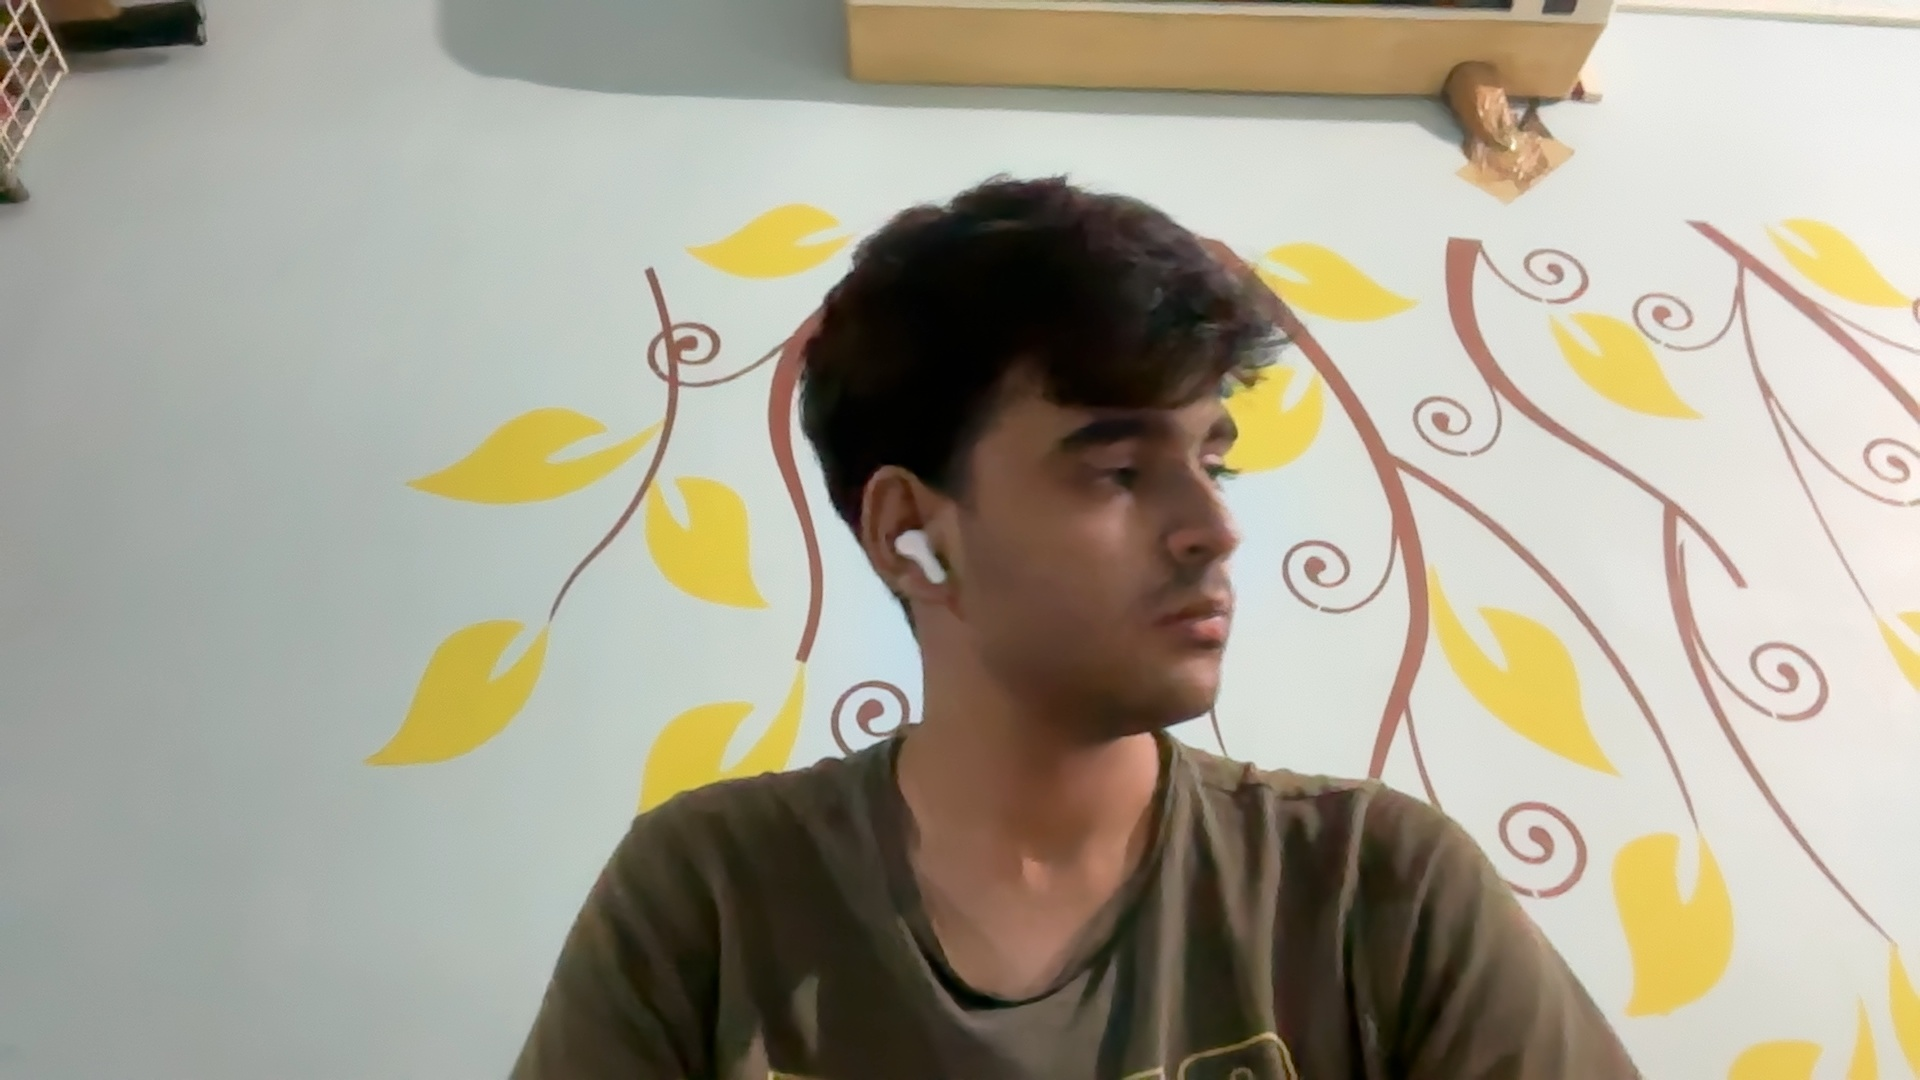No Mask: (973, 508, 1254, 722)
